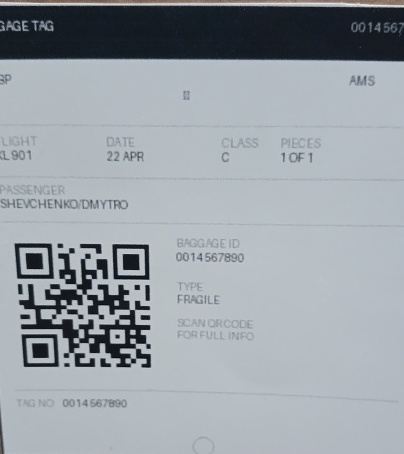LPN_bottom: (58, 393, 130, 411)
LPN_right: (171, 248, 247, 266)
